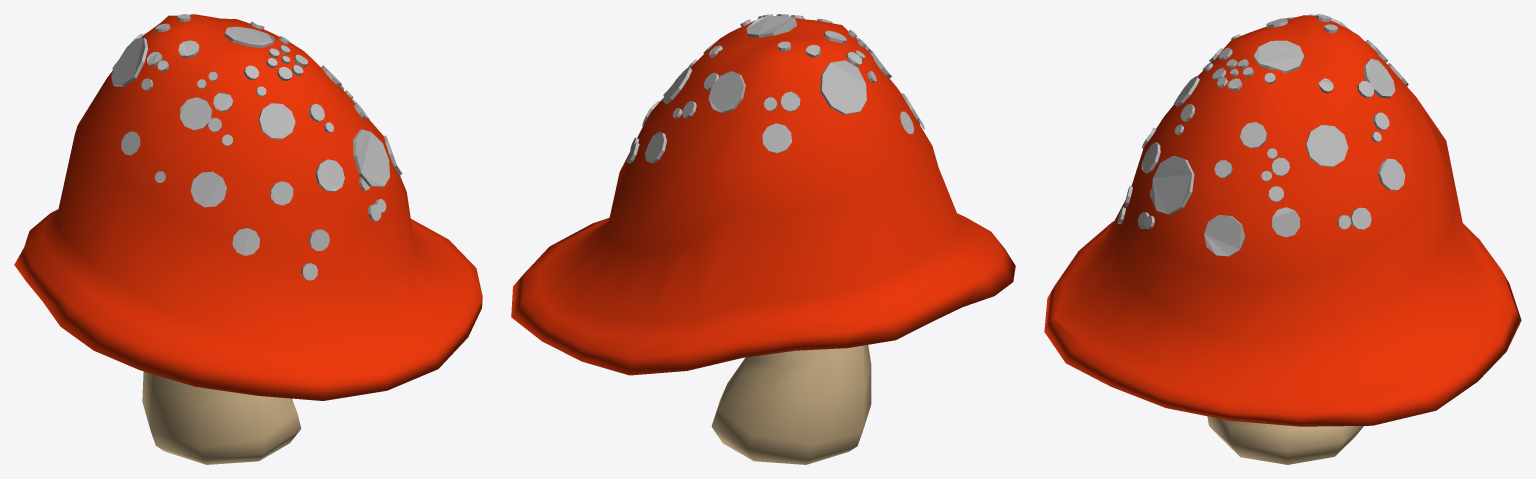
Rendered from Mushroom-2.fbx.
3 views of the same model, side by side, from view 1: azimuth 30°, elevation 25°; view 2: azimuth 150°, elevation 25°; view 3: azimuth 270°, elevation 25° (orthographic). The views are drawn at different scales.
Parts seen in each view (by area): view 1: Mushroom-2; view 2: Mushroom-2; view 3: Mushroom-2.
Part boxes in pixels (<box>): Mushroom-2: <box>14,14,482,464</box>; Mushroom-2: <box>511,14,1015,464</box>; Mushroom-2: <box>1044,14,1521,464</box>.
Size of the model in its own units: 14.77 by 14.07 by 14.9.
